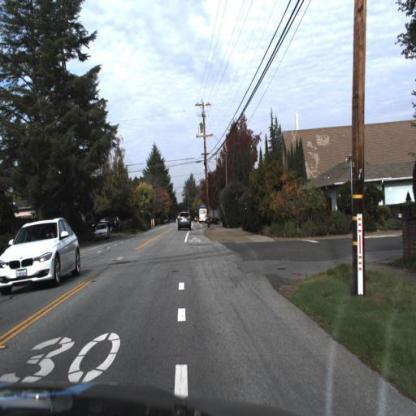car: (1, 218, 83, 297), (90, 219, 111, 246), (176, 208, 194, 236), (93, 221, 112, 243), (100, 218, 120, 237), (208, 206, 222, 227), (197, 207, 211, 225)
